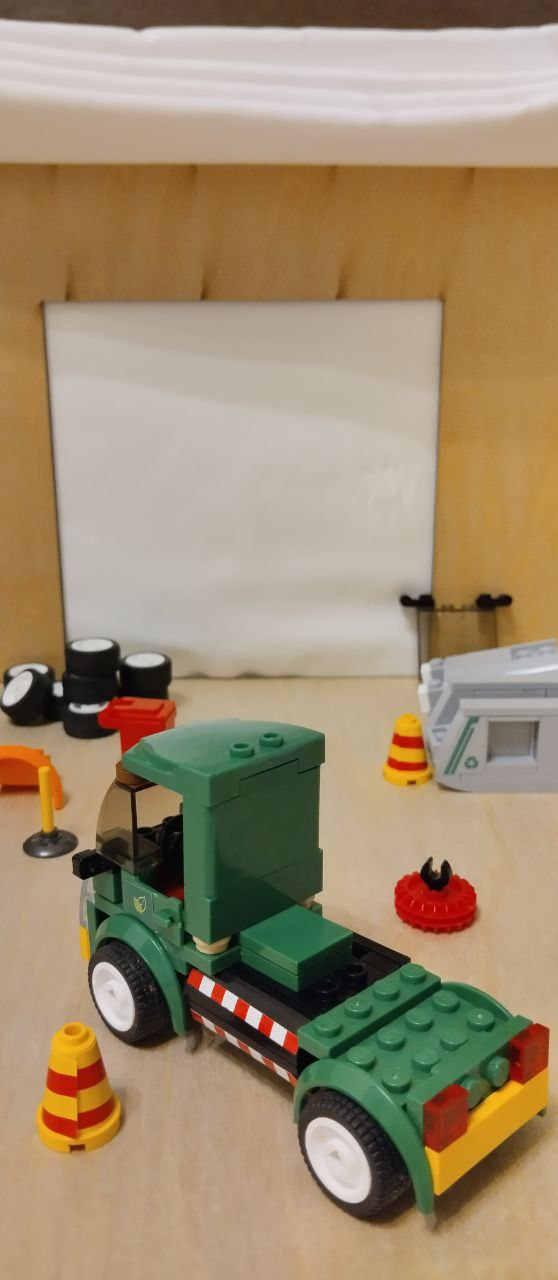Cone: (30, 1020, 127, 1157), (378, 714, 441, 786)
Object Red: (89, 693, 185, 768)
Truck: (67, 714, 555, 1230)
